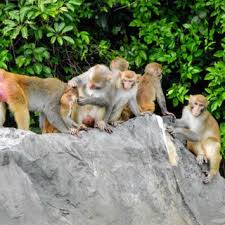monkey: (5, 52, 91, 140), (100, 36, 162, 146), (177, 70, 212, 177)
